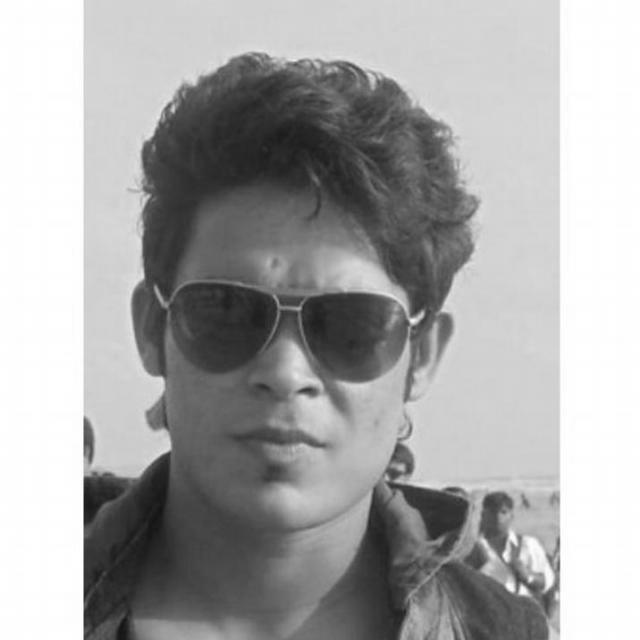real: (129, 70, 472, 534)
